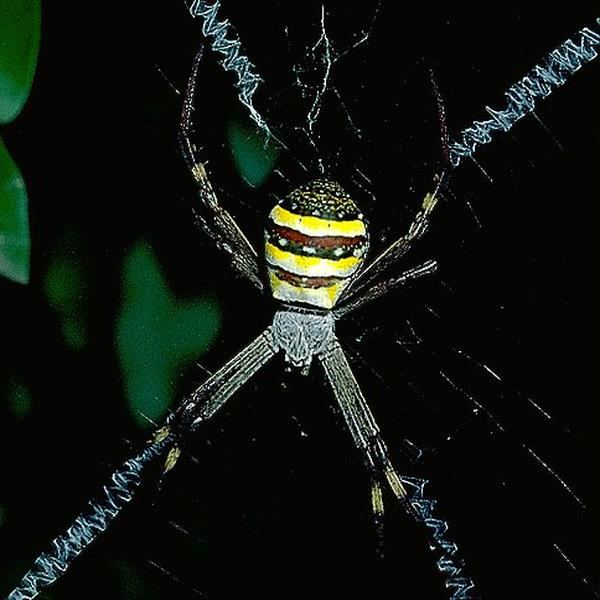St Andrew's Cross Spider: (167, 57, 450, 539)
